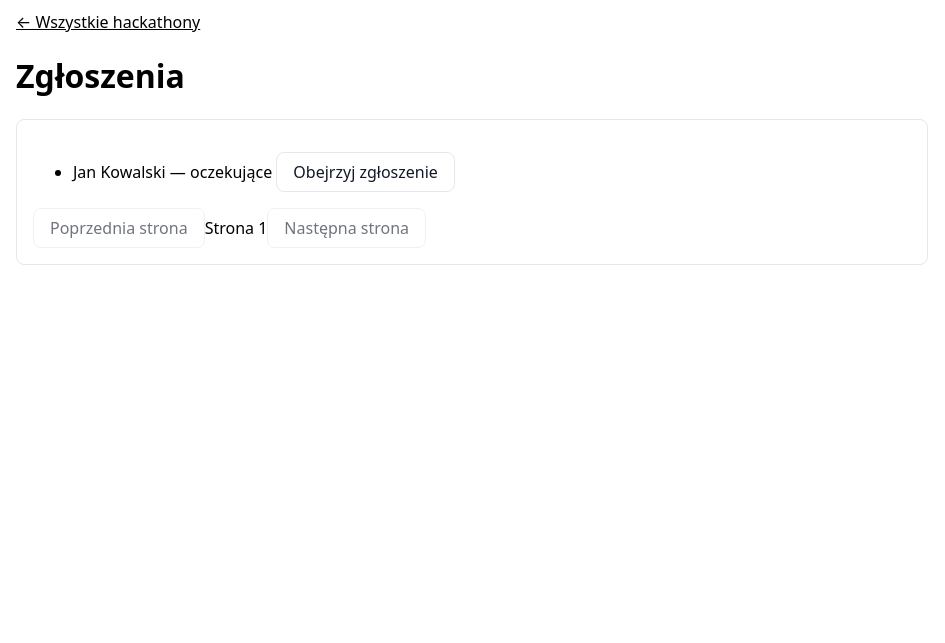
Test: ManageRegistrationsPage › shows answers after selecting a registration
The image size is (945, 643).
Click the button "Obejrzyj zgłoszenie".
click(366, 172)  # box [276, 152, 455, 192]
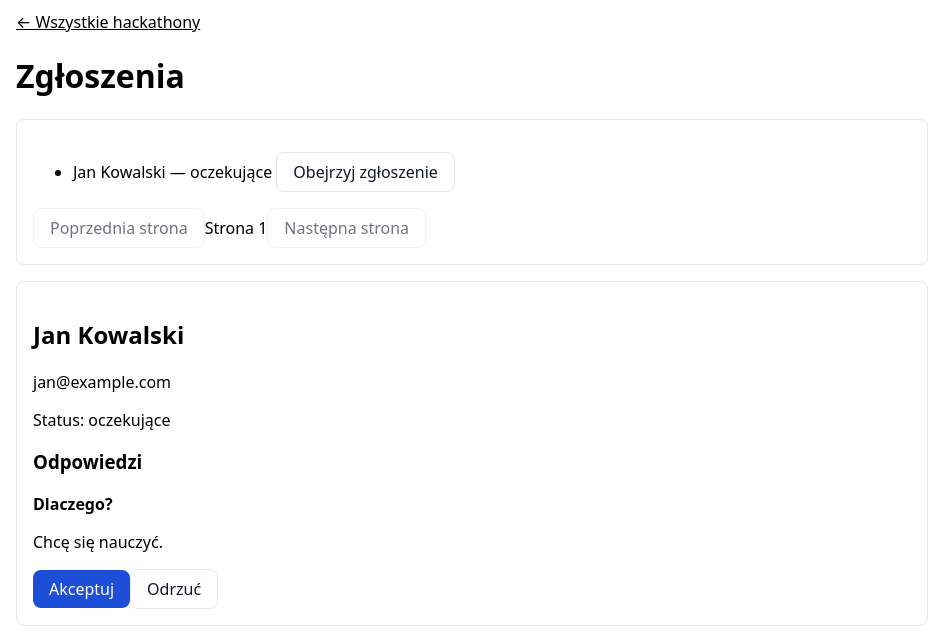
expect the heading "Jan Kowalski" is shown: met, box [33, 318, 184, 351]
expect the text "Dlaczego?" is shown: met, box [33, 493, 112, 515]
expect the text "Chcę się nauczyć." is shown: met, box [33, 531, 163, 553]
